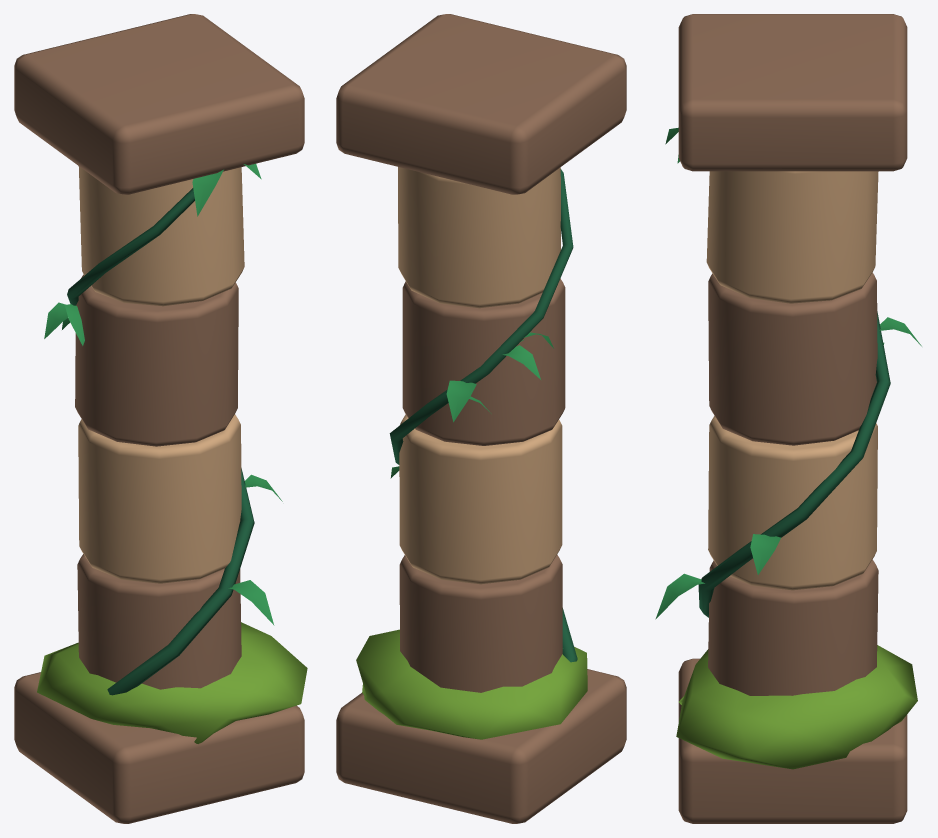
Rendered from jungle_column.glb.
3 renders of one model, left to right at view 1: azimuth 30°, elevation 25°; view 2: azimuth 150°, elevation 25°; view 3: azimuth 270°, elevation 25°, orthographic. The views are drawn at different scales.
Parts seen in each view (by area): view 1: Column; view 2: Column; view 3: Column.
Boxes of the visible parts, <box> form: Column: <box>14,14,307,823</box>; Column: <box>336,14,626,823</box>; Column: <box>655,14,921,823</box>.
Size of the model in its own units: 1.55 by 4.55 by 1.53.
